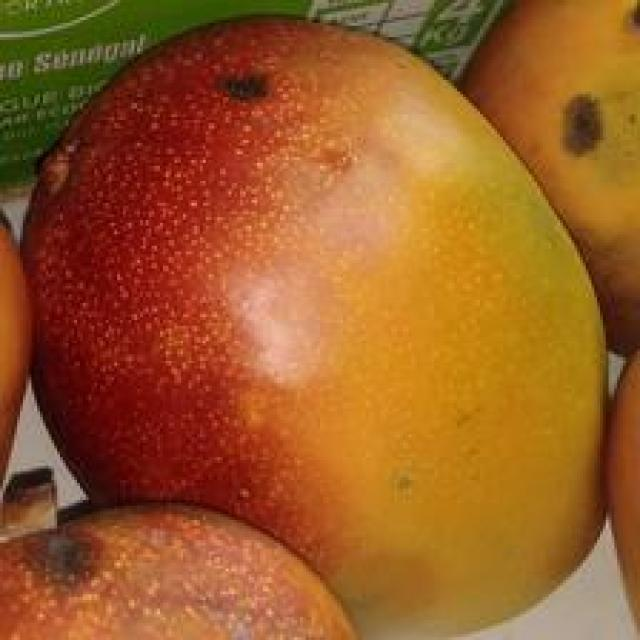Mango: (3, 28, 640, 614), (452, 0, 640, 353), (1, 503, 361, 640)
